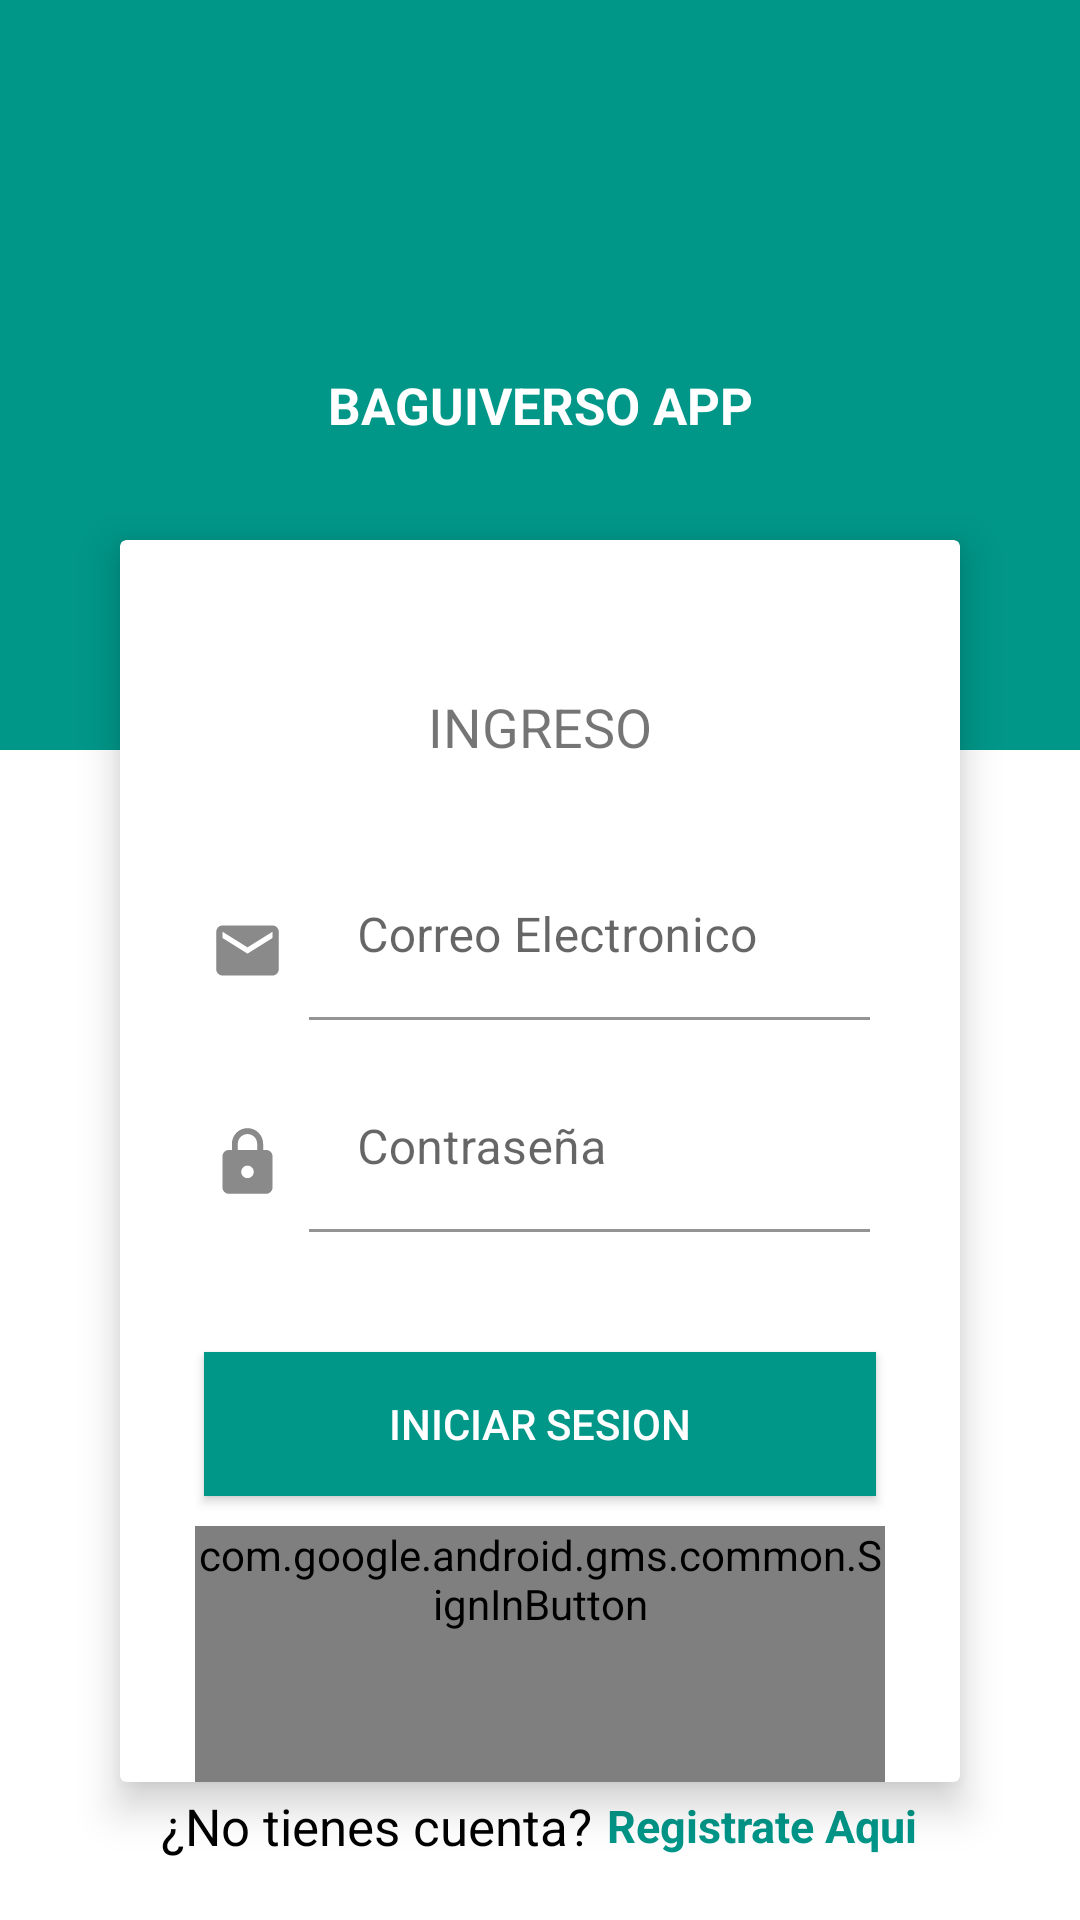

Locate icon controls on the screen. Image size 1080×1920, boxes as (x1, y1, x2, y2).
email: (216, 925, 279, 976)
password: (222, 1128, 273, 1194)
